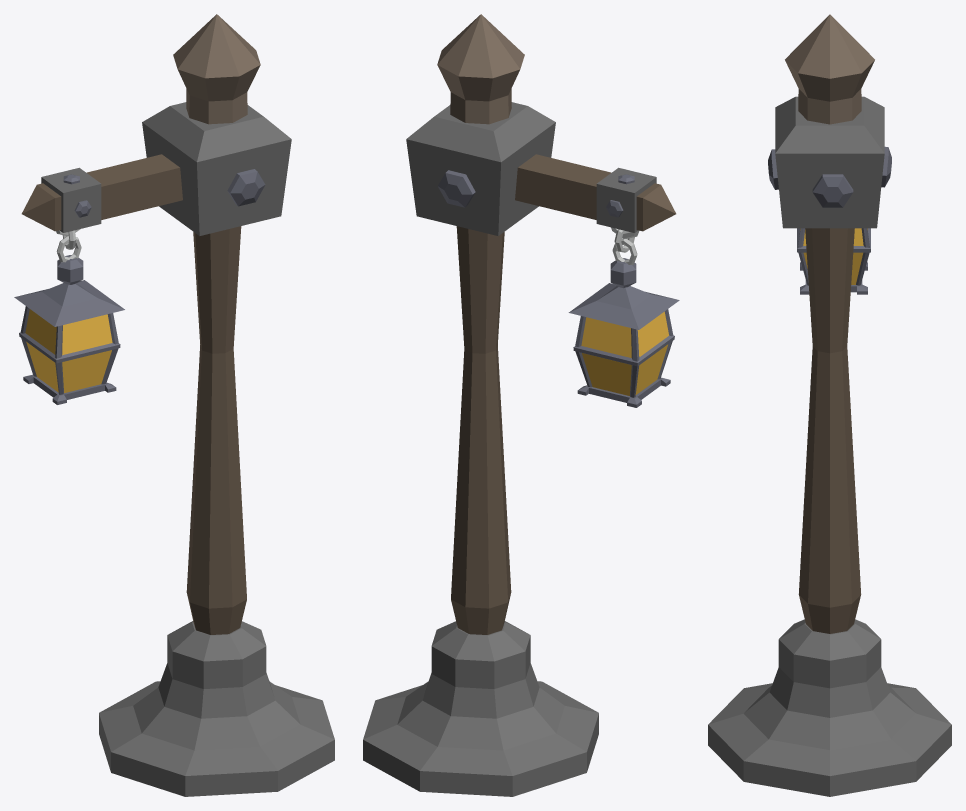
The model's file is Lamp_02.glb.
3 renders of one model, left to right at view 1: azimuth 30°, elevation 25°; view 2: azimuth 150°, elevation 25°; view 3: azimuth 270°, elevation 25°, orthographic.
Visible parts, largest first — view 1: Lamp_2; view 2: Lamp_2; view 3: Lamp_2.
Boxes of the visible parts, bbox=[...] form: Lamp_2: bbox=[14, 14, 334, 796]; Lamp_2: bbox=[363, 14, 679, 796]; Lamp_2: bbox=[708, 14, 951, 796].
Size of the model in its own units: 1.68 by 3.9 by 1.18.
1 material, 1 textured.
